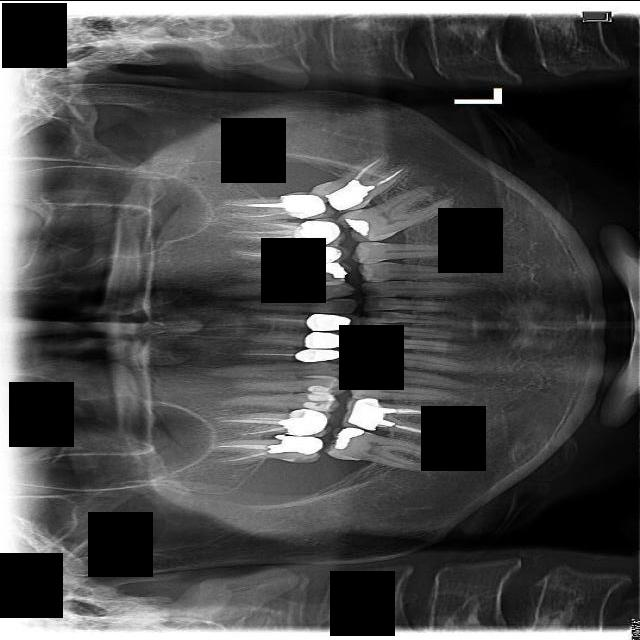71: (247, 196, 308, 212), (282, 248, 328, 263)
74: (352, 154, 380, 182), (219, 450, 270, 464), (259, 216, 301, 231), (391, 423, 436, 436), (377, 167, 406, 186), (393, 407, 448, 417), (211, 442, 270, 449), (261, 314, 307, 322), (241, 426, 286, 434), (220, 418, 280, 424), (230, 229, 298, 234), (238, 251, 288, 256), (264, 233, 305, 238), (243, 416, 288, 420), (262, 210, 289, 215), (240, 353, 293, 355), (221, 202, 250, 205), (236, 215, 263, 216)
NucleOSS Implant: (324, 171, 378, 216), (329, 419, 366, 453), (267, 433, 323, 455), (314, 255, 351, 283), (358, 403, 398, 428), (343, 211, 371, 235), (279, 416, 312, 434)
Sterngold Implant: (290, 454, 317, 463)
Straumann Implant: (301, 396, 335, 412), (307, 384, 336, 394), (309, 391, 335, 402)
Zimmer Implant: (290, 215, 345, 250), (280, 192, 339, 218), (343, 393, 383, 431), (288, 407, 331, 437), (295, 345, 354, 365), (307, 311, 360, 333), (305, 242, 350, 267), (305, 329, 361, 349)
